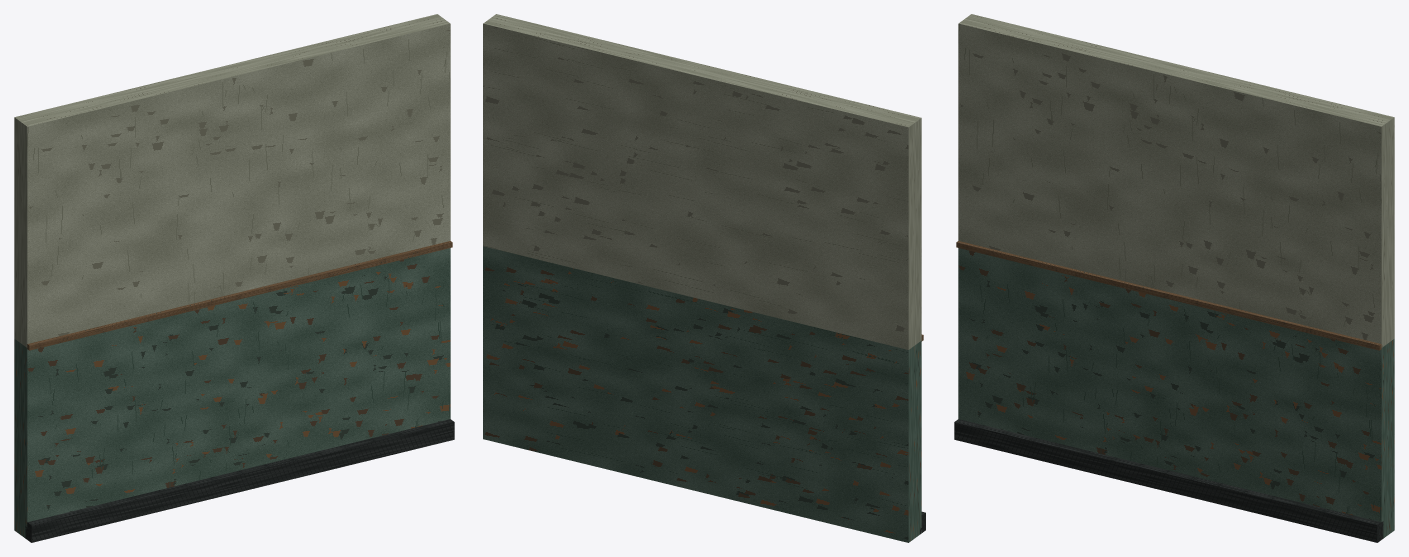
The model's file is Wall_3m.glb.
3 views of the same model, side by side, from view 1: azimuth 30°, elevation 25°; view 2: azimuth 150°, elevation 25°; view 3: azimuth 330°, elevation 25° (orthographic).
Visible parts, largest first — view 1: Wall_3m; view 2: Wall_3m; view 3: Wall_3m.
Boxes of the visible parts, x1=… form: Wall_3m: x1=14, y1=14, x2=454, y2=542; Wall_3m: x1=483, y1=14, x2=925, y2=542; Wall_3m: x1=954, y1=14, x2=1394, y2=542.
Size of the model in its own units: 3 by 2.8 by 0.21.
Materials: 4 (4 with a texture image).
